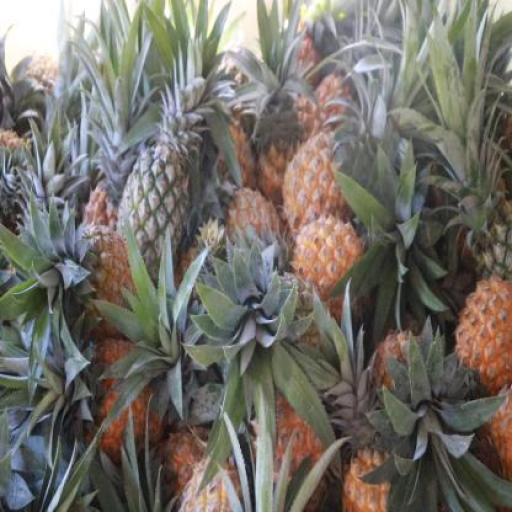Pineapple - v8 v1: (283, 136, 355, 238), (293, 218, 364, 306), (454, 278, 512, 384)
